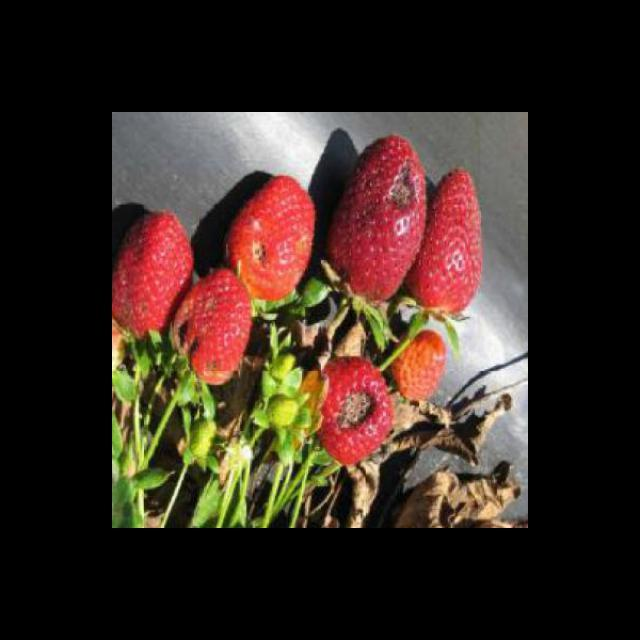Anthracnose Fruit Rot: (358, 157, 420, 231), (176, 317, 222, 379), (334, 385, 383, 436), (248, 241, 271, 271)
